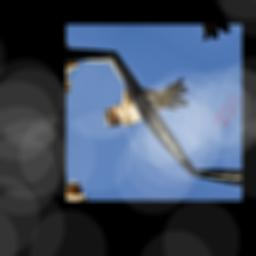Swallow: (98, 52, 200, 157)
